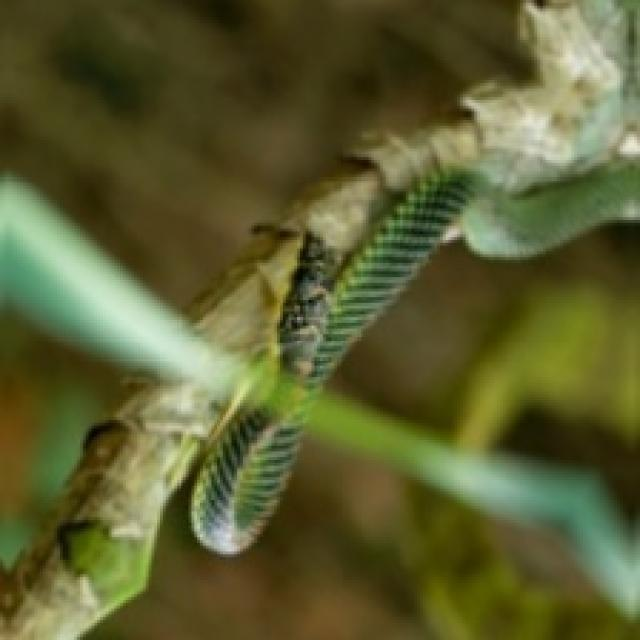paradise tree snake: (191, 234, 340, 551)
